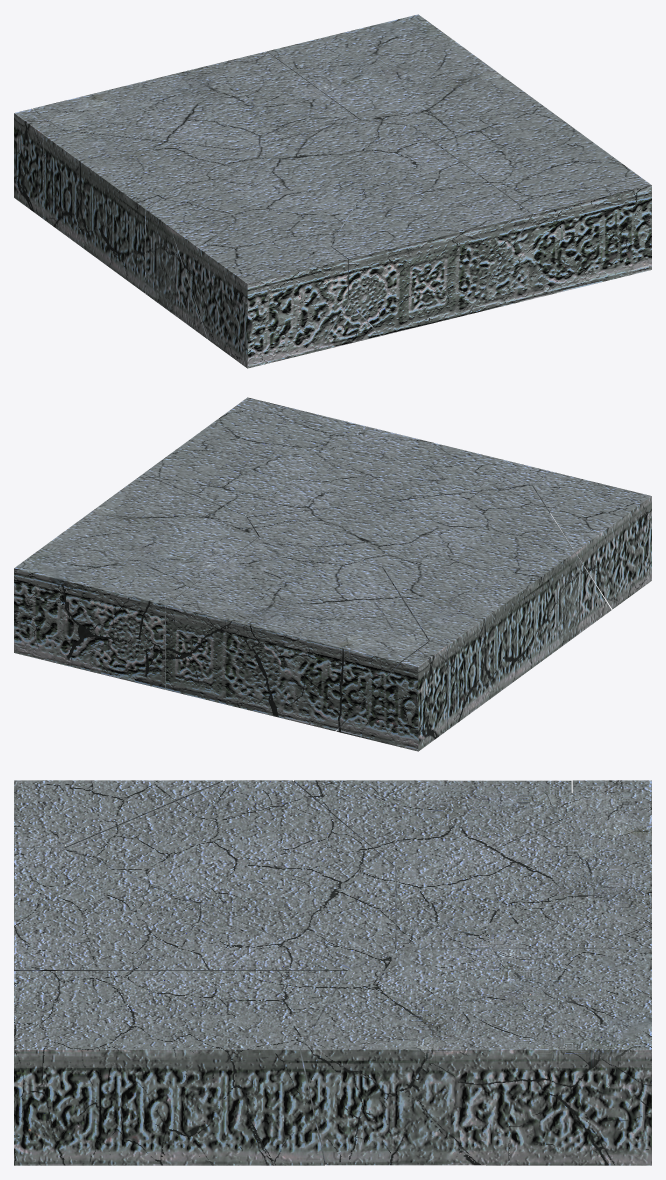
File: broken_flor_wall.fbx
3 renders of one model, top to bottom at view 1: azimuth 30°, elevation 25°; view 2: azimuth 150°, elevation 25°; view 3: azimuth 270°, elevation 25°, orthographic. The views are drawn at different scales.
Visible parts, largest first — view 1: floor_cell.006, floor_cell.007, floor_cell.004, floor_cell.005, floor_cell.001, floor_cell.003, floor_cell, floor_cell.002; view 2: floor_cell.005, floor_cell.003, floor_cell.004, floor_cell, floor_cell.006, floor_cell.007, floor_cell.001, floor_cell.002; view 3: floor_cell.003, floor_cell.006, floor_cell.004, floor_cell.005, floor_cell.007, floor_cell, floor_cell.001, floor_cell.002.
Boxes of the visible parts, bbox=[...] form: floor_cell.006: bbox=[411, 108, 651, 314]; floor_cell.007: bbox=[330, 125, 531, 335]; floor_cell.004: bbox=[145, 120, 405, 351]; floor_cell.005: bbox=[33, 51, 359, 150]; floor_cell.001: bbox=[171, 228, 348, 368]; floor_cell.003: bbox=[267, 14, 546, 125]; floor_cell: bbox=[43, 130, 237, 293]; floor_cell.002: bbox=[14, 108, 60, 218]; floor_cell.005: bbox=[166, 537, 428, 730]; floor_cell.003: bbox=[14, 474, 258, 689]; floor_cell.004: bbox=[247, 485, 611, 654]; floor_cell: bbox=[382, 566, 549, 729]; floor_cell.006: bbox=[143, 397, 366, 516]; floor_cell.007: bbox=[245, 426, 550, 517]; floor_cell.001: bbox=[533, 471, 651, 609]; floor_cell.002: bbox=[336, 641, 447, 751]; floor_cell.003: bbox=[301, 949, 651, 1165]; floor_cell.006: bbox=[14, 970, 346, 1165]; floor_cell.004: bbox=[65, 780, 396, 968]; floor_cell.005: bbox=[396, 792, 651, 949]; floor_cell.007: bbox=[14, 848, 349, 971]; floor_cell: bbox=[294, 780, 571, 871]; floor_cell.001: bbox=[14, 780, 222, 848]; floor_cell.002: bbox=[572, 780, 651, 792].
Size of the model in its own units: 100 by 20 by 100.
